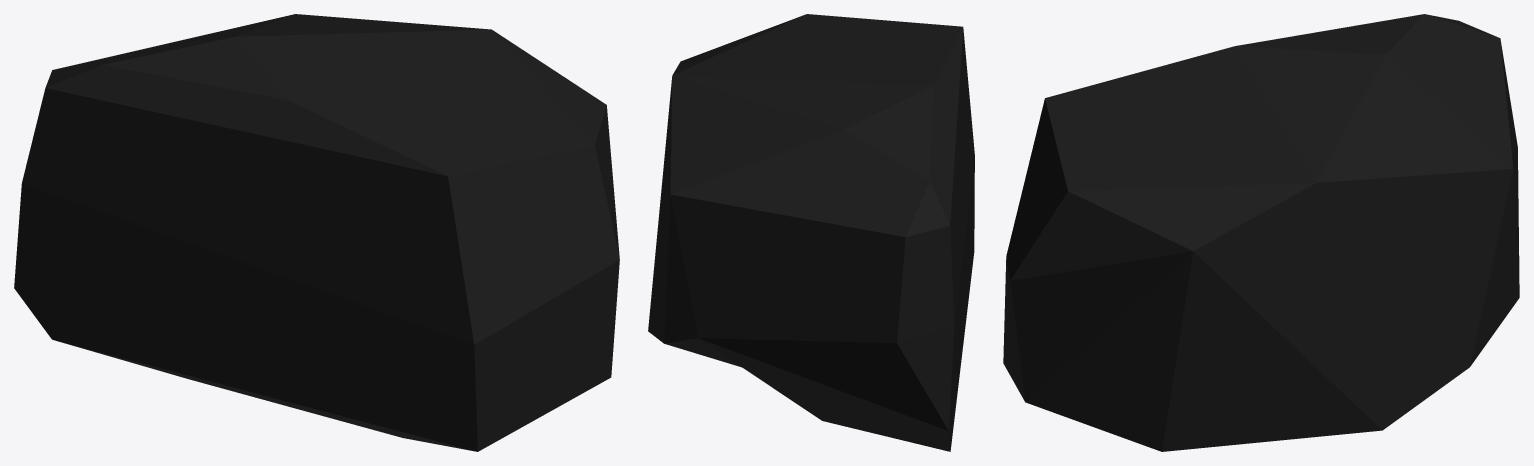
The model's file is SM_Rock_01.glb.
3 views of the same model, side by side, from view 1: azimuth 30°, elevation 25°; view 2: azimuth 150°, elevation 25°; view 3: azimuth 270°, elevation 25° (orthographic). The views are drawn at different scales.
Visible parts, largest first — view 1: SM_Rock_01; view 2: SM_Rock_01; view 3: SM_Rock_01.
Part boxes in pixels (box(x1,y1,x2,y2)): SM_Rock_01: box(14, 14, 619, 451); SM_Rock_01: box(648, 14, 974, 451); SM_Rock_01: box(1003, 14, 1519, 451).
Bounding box in the file's own units: 0.3313 × 0.2298 × 0.3369.
Materials: 1 (1 with a texture image).
